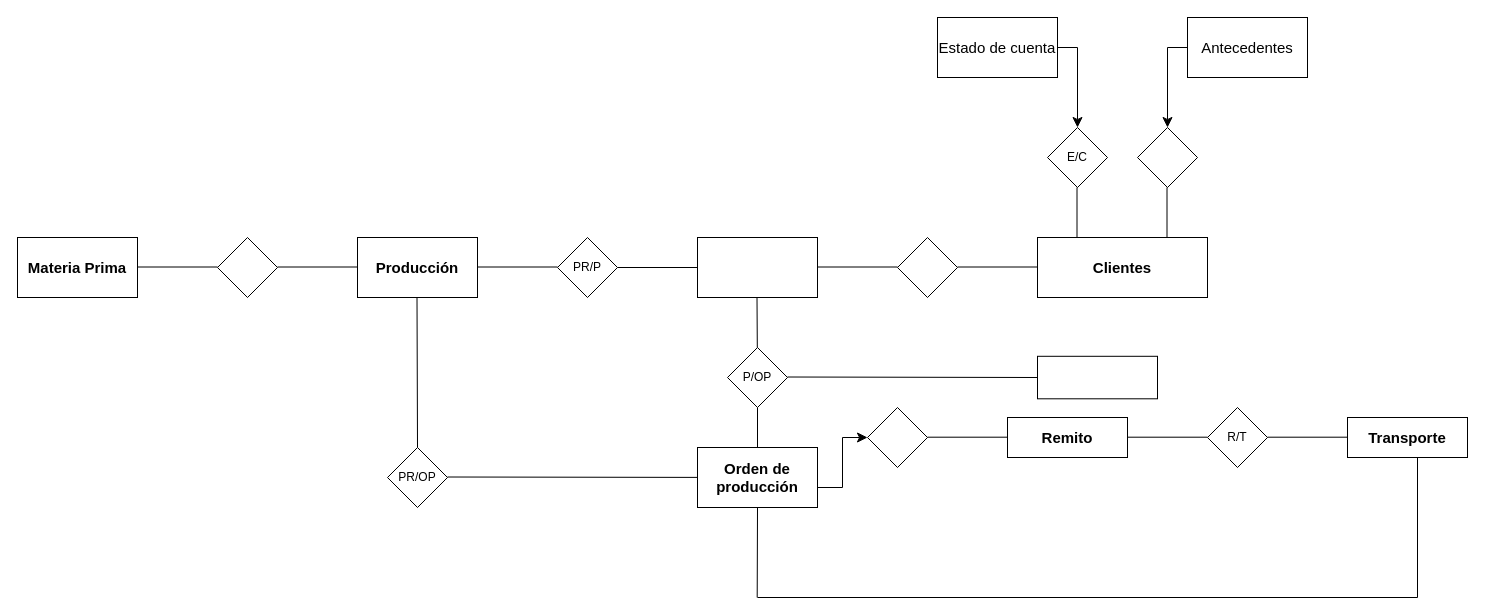
Image size: 1485x616. Some labels were removed from this diagram. The shapes that lost their labels are listed below. From the top down, each one's centre as x and y in pixels, then its label:
the point at 1167,157: A/C
the point at 247,267: MP/PR
the point at 757,267: Pedidos
the point at 927,267: P/C
the point at 1097,377: Factura
the point at 897,437: P/R
